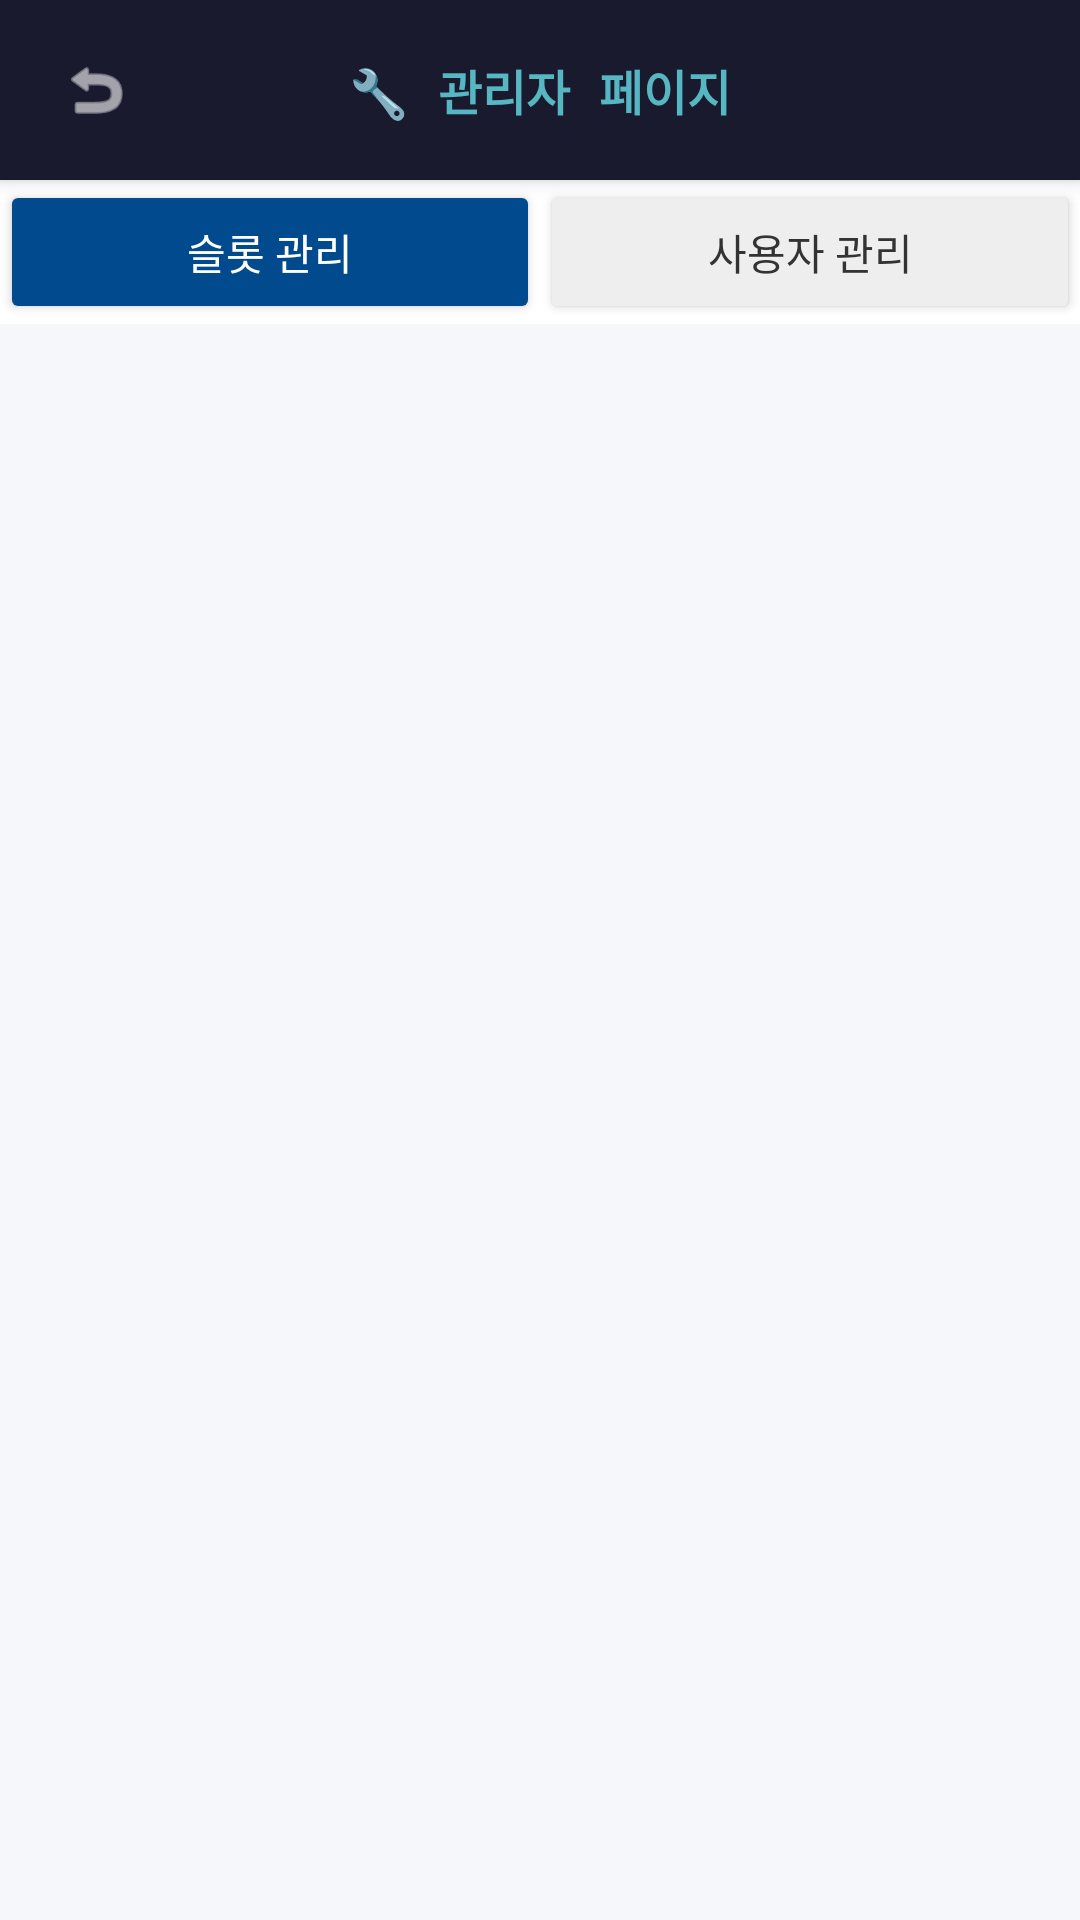

Icons on this 1080 × 1920 Android screen, each with the point to tap as (x,y):
revert: (97,90)
